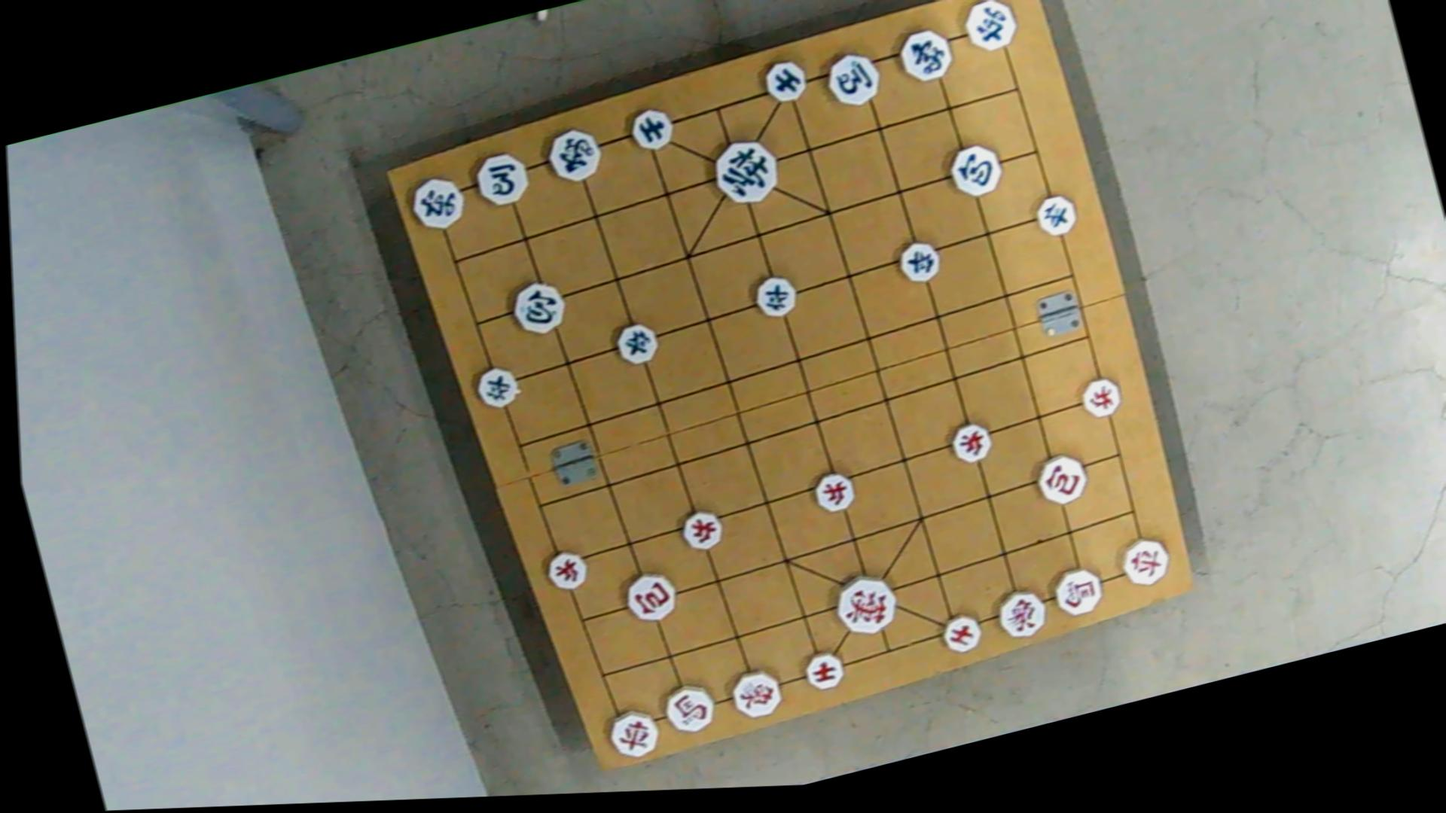cha_green: (406, 172, 471, 233), (958, 0, 1021, 54)
cha_red: (605, 703, 667, 764), (1118, 534, 1174, 587)
jol_green: (471, 364, 523, 411), (895, 238, 947, 285), (752, 271, 802, 318), (612, 321, 663, 367), (1030, 192, 1079, 237)
jol_red: (950, 419, 999, 464), (676, 507, 726, 551), (541, 548, 591, 592), (810, 469, 859, 513), (1075, 373, 1122, 418)
ma_green: (822, 45, 886, 110), (471, 147, 535, 209)
ma_red: (661, 680, 721, 735), (1050, 566, 1107, 618)
po_green: (941, 138, 1011, 200), (509, 276, 571, 335)
po_red: (1035, 451, 1094, 506), (624, 569, 682, 624)
sa_green: (627, 104, 679, 151), (760, 57, 809, 104)
sa_red: (939, 611, 987, 656), (801, 651, 850, 693)
sang_green: (541, 120, 612, 190), (894, 23, 956, 85)
sang_red: (990, 586, 1053, 644), (727, 666, 783, 722)
wang_green: (707, 135, 786, 208)
wang_red: (831, 572, 902, 638)
